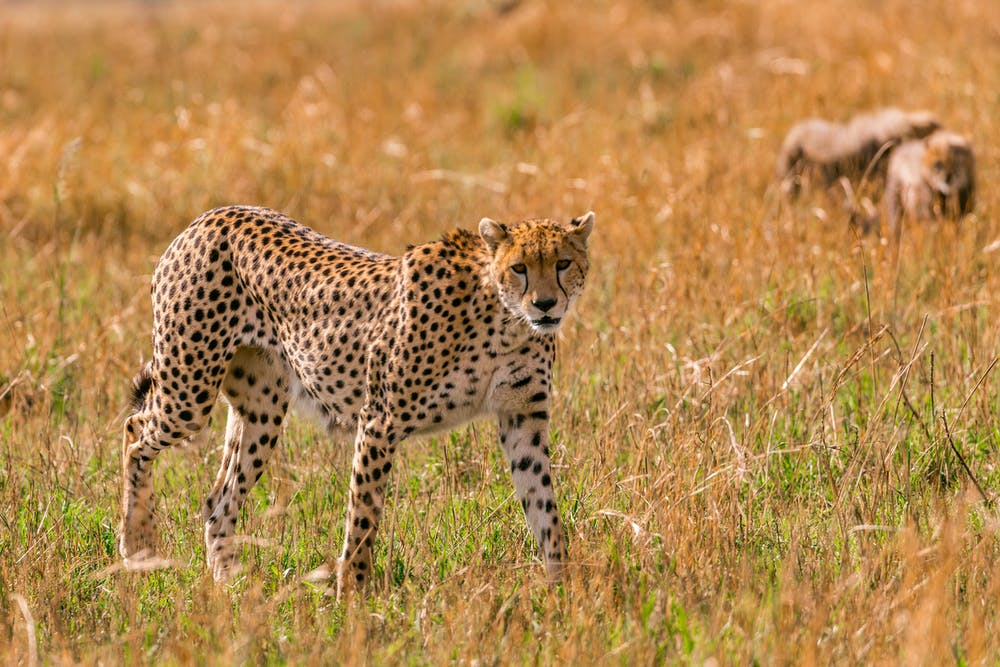cheetah: (471, 196, 604, 339)
